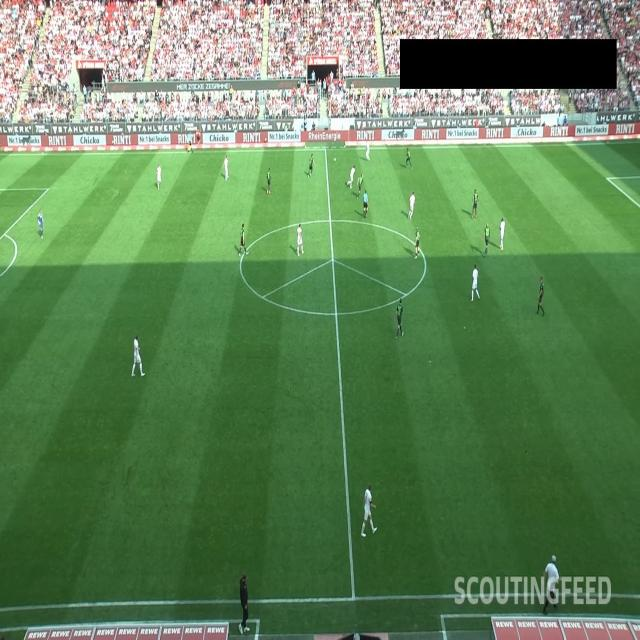ball: (334, 156, 336, 162)
